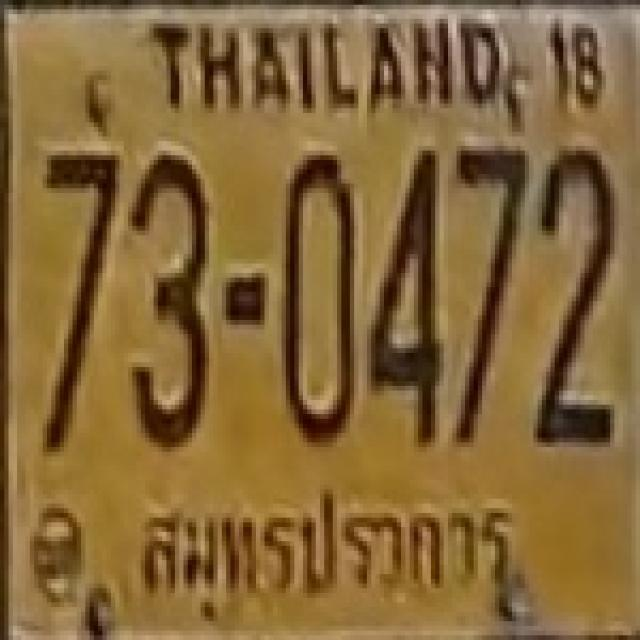2: (538, 148, 614, 365)
4: (367, 148, 439, 426), (367, 146, 439, 376)
7: (452, 146, 525, 310), (45, 153, 117, 318), (45, 151, 117, 301)
SPK: (124, 482, 520, 608)
